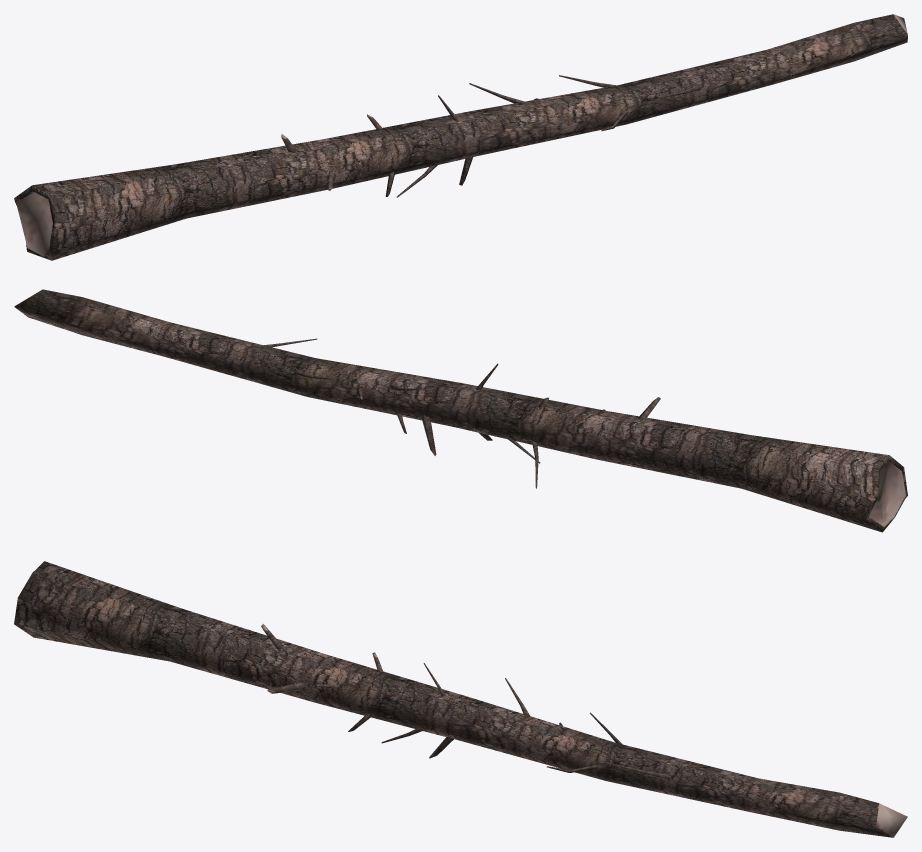
File: A_Coniferous Dead Log_12.glb
The picture shows the model from 3 angles, top to bottom: view 1: azimuth 30°, elevation 25°; view 2: azimuth 150°, elevation 25°; view 3: azimuth 330°, elevation 25°; orthographic projection.
Parts seen in each view (by area): view 1: Coniferous Dead Log_12; view 2: Coniferous Dead Log_12; view 3: Coniferous Dead Log_12.
Part boxes in pixels (<box>): Coniferous Dead Log_12: <box>14,14,907,260</box>; Coniferous Dead Log_12: <box>14,289,907,532</box>; Coniferous Dead Log_12: <box>14,561,907,837</box>.
Size of the model in its own units: 7.59 by 0.7774 by 0.7801.
1 material, 1 textured.
